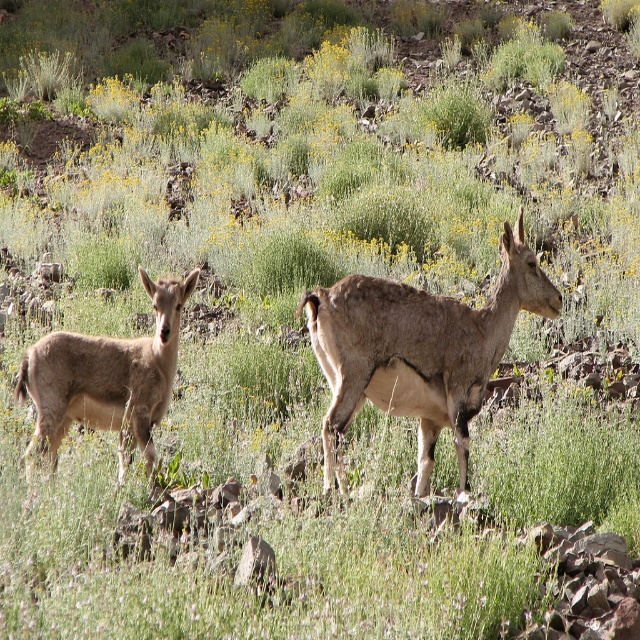Deer: (294, 205, 564, 507), (13, 263, 201, 503)
